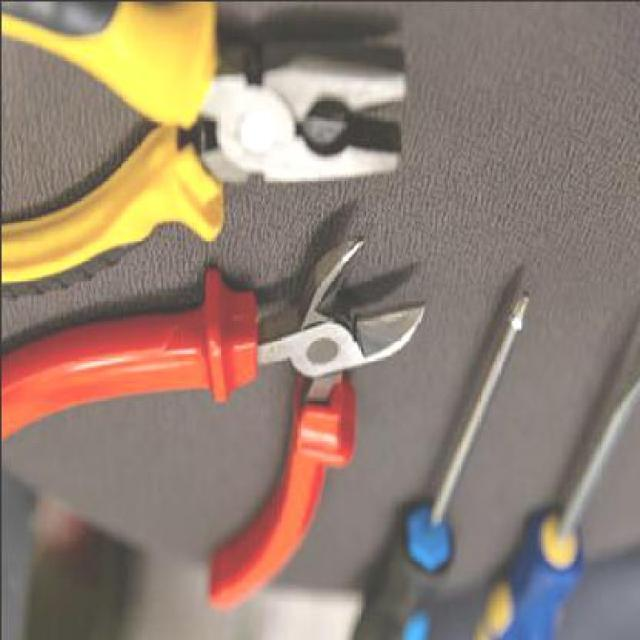pliers: (21, 231, 422, 604)
